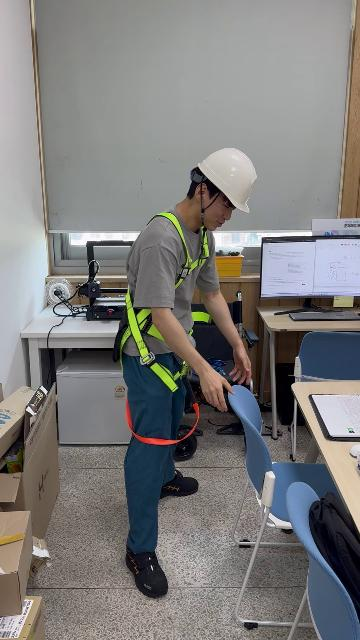helmet_worn: (195, 147, 258, 215)
shoe_worn: (125, 543, 168, 598), (160, 469, 198, 498)
vest_worn: (117, 218, 207, 386)
